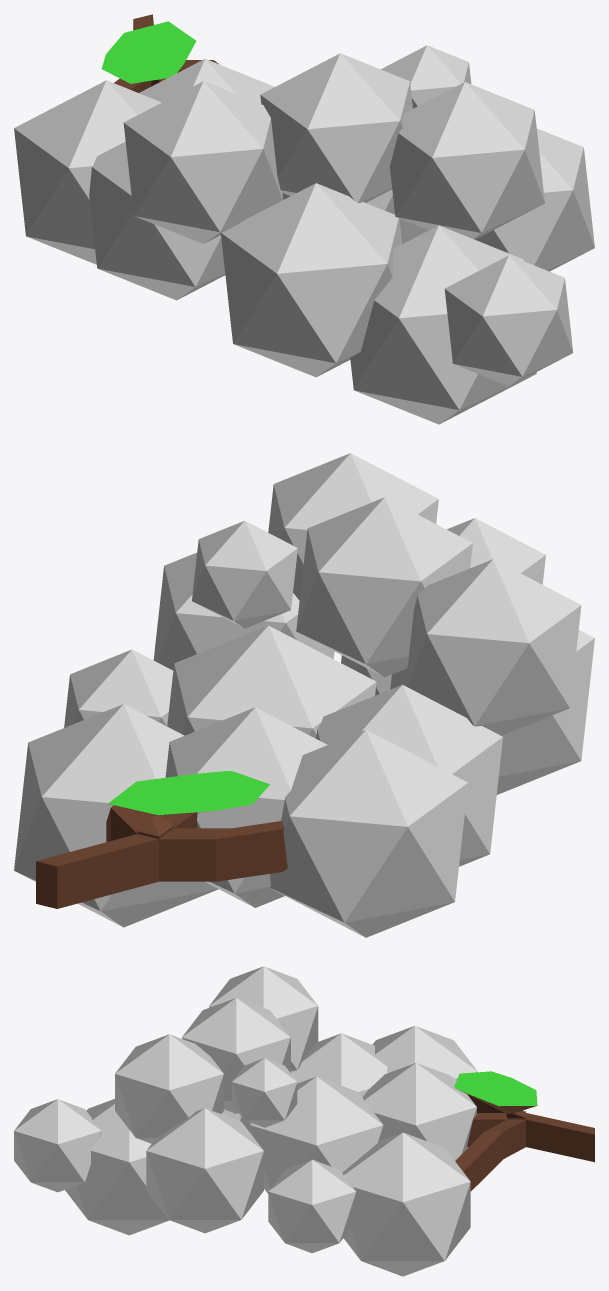
File: Grape.fbx
The picture shows the model from 3 angles, top to bottom: view 1: azimuth 30°, elevation 25°; view 2: azimuth 150°, elevation 25°; view 3: azimuth 270°, elevation 25°; orthographic projection. The views are drawn at different scales.
Parts seen in each view (by area): view 1: Icosphere.003, Icosphere.010, Icosphere.001, Icosphere.009, Icosphere.008, Icosphere.013, Icosphere, Icosphere.006, Icosphere.002, Cube, Icosphere.012, Icosphere.007 (+1 smaller); view 2: Icosphere.013, Icosphere.010, Cube, Icosphere.008, Icosphere.011, Icosphere.005, Icosphere.006, Icosphere.007, Icosphere.012, Icosphere.001, Icosphere.003, Icosphere.002 (+2 smaller); view 3: Icosphere.011, Icosphere.002, Icosphere.001, Icosphere.005, Cube, Icosphere.009, Icosphere.007, Icosphere.004, Icosphere, Icosphere.008, Icosphere.010, Icosphere.006 (+2 smaller).
Boxes of the visible parts, bbox=[...] form: Icosphere.003: bbox=[220, 183, 402, 377]; Icosphere.010: bbox=[123, 81, 283, 243]; Icosphere.001: bbox=[389, 82, 544, 239]; Icosphere.009: bbox=[350, 225, 536, 424]; Icosphere.008: bbox=[260, 53, 412, 202]; Icosphere.013: bbox=[14, 80, 161, 264]; Icosphere: bbox=[444, 255, 573, 386]; Icosphere.006: bbox=[89, 141, 225, 300]; Icosphere.002: bbox=[475, 128, 594, 271]; Cube: bbox=[101, 14, 218, 92]; Icosphere.012: bbox=[381, 45, 471, 108]; Icosphere.007: bbox=[139, 59, 274, 103]; Icosphere.013: bbox=[270, 730, 467, 937]; Icosphere.010: bbox=[405, 559, 581, 735]; Cube: bbox=[36, 771, 287, 908]; Icosphere.008: bbox=[296, 497, 472, 677]; Icosphere.011: bbox=[14, 704, 218, 927]; Icosphere.005: bbox=[167, 625, 376, 738]; Icosphere.006: bbox=[316, 684, 502, 866]; Icosphere.007: bbox=[165, 707, 327, 907]; Icosphere.012: bbox=[192, 520, 297, 628]; Icosphere.001: bbox=[268, 453, 438, 600]; Icosphere.003: bbox=[390, 630, 594, 794]; Icosphere.002: bbox=[153, 552, 334, 670]; Icosphere.011: bbox=[342, 1132, 470, 1276]; Icosphere.002: bbox=[146, 1108, 263, 1233]; Icosphere.001: bbox=[115, 1034, 223, 1143]; Icosphere.005: bbox=[250, 1076, 383, 1193]; Cube: bbox=[454, 1071, 594, 1191]; Icosphere.009: bbox=[65, 1099, 169, 1235]; Icosphere.007: bbox=[362, 1063, 476, 1160]; Icosphere.004: bbox=[268, 1159, 356, 1253]; Icosphere: bbox=[14, 1099, 101, 1192]; Icosphere.008: bbox=[182, 997, 290, 1113]; Icosphere.010: bbox=[209, 966, 318, 1071]; Icosphere.006: bbox=[291, 1033, 387, 1097].
Bounding box in the file's own units: 35.52 × 26.88 × 59.61.
